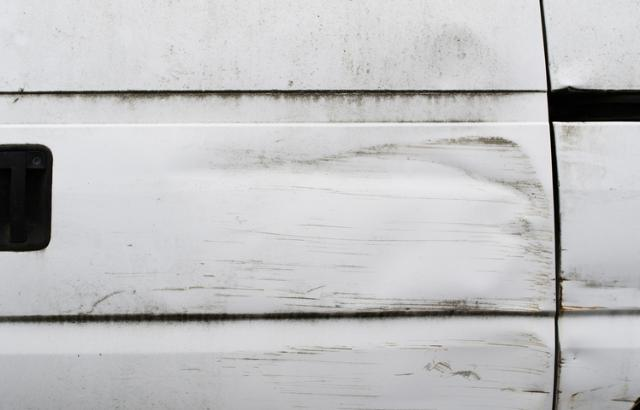Door: (0, 60, 552, 410)
